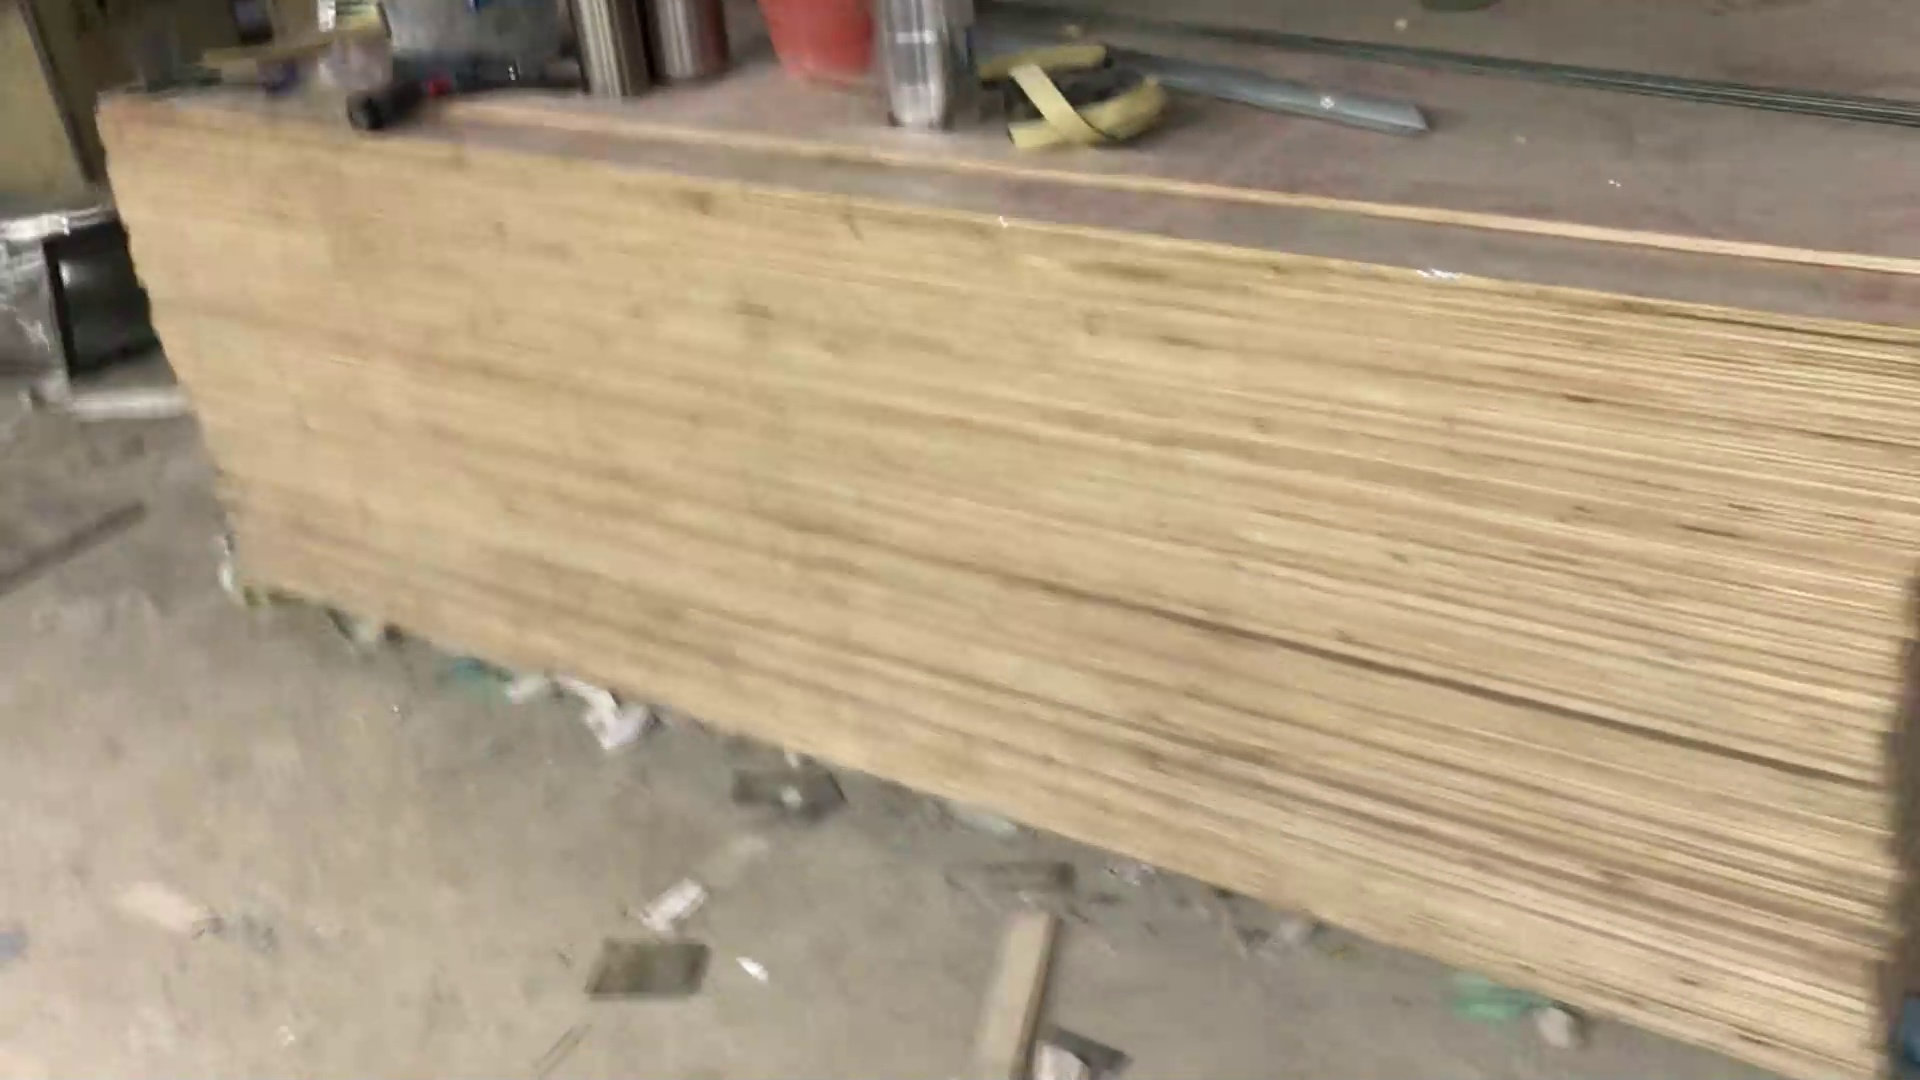board: (86, 51, 1912, 1080)
